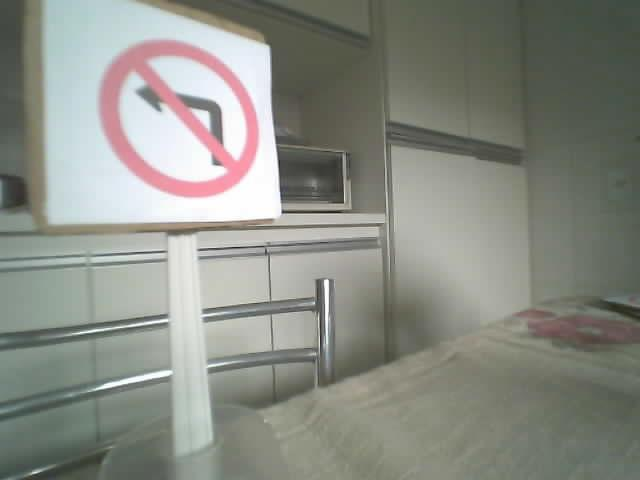R-4a_proibido-esquerda: (97, 37, 257, 198)
